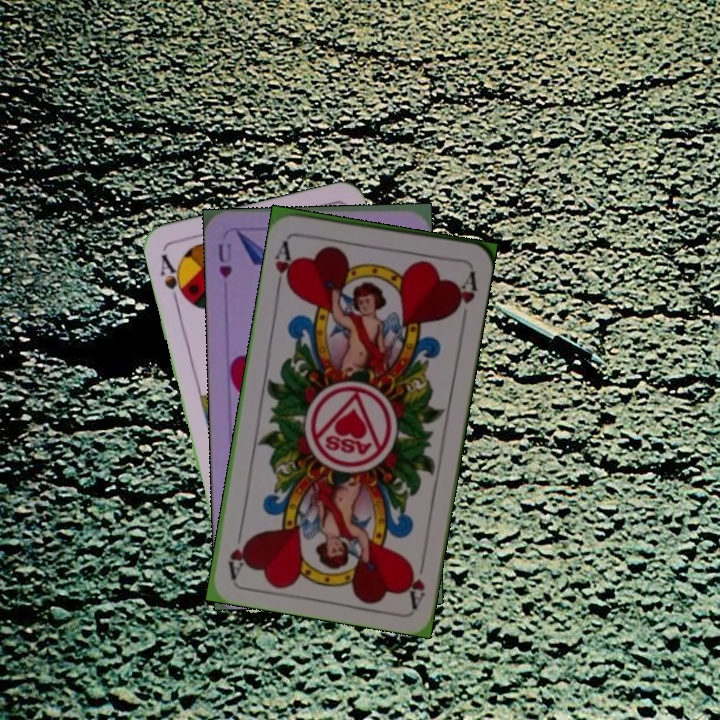HA: (270, 233, 298, 292), (402, 550, 429, 609)
HU: (214, 239, 235, 281)
SA: (156, 250, 190, 307)
